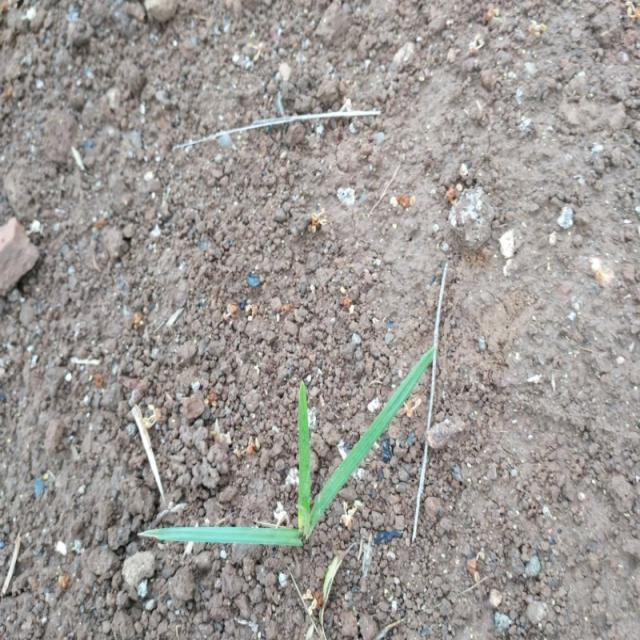sedge: (160, 324, 430, 582)
